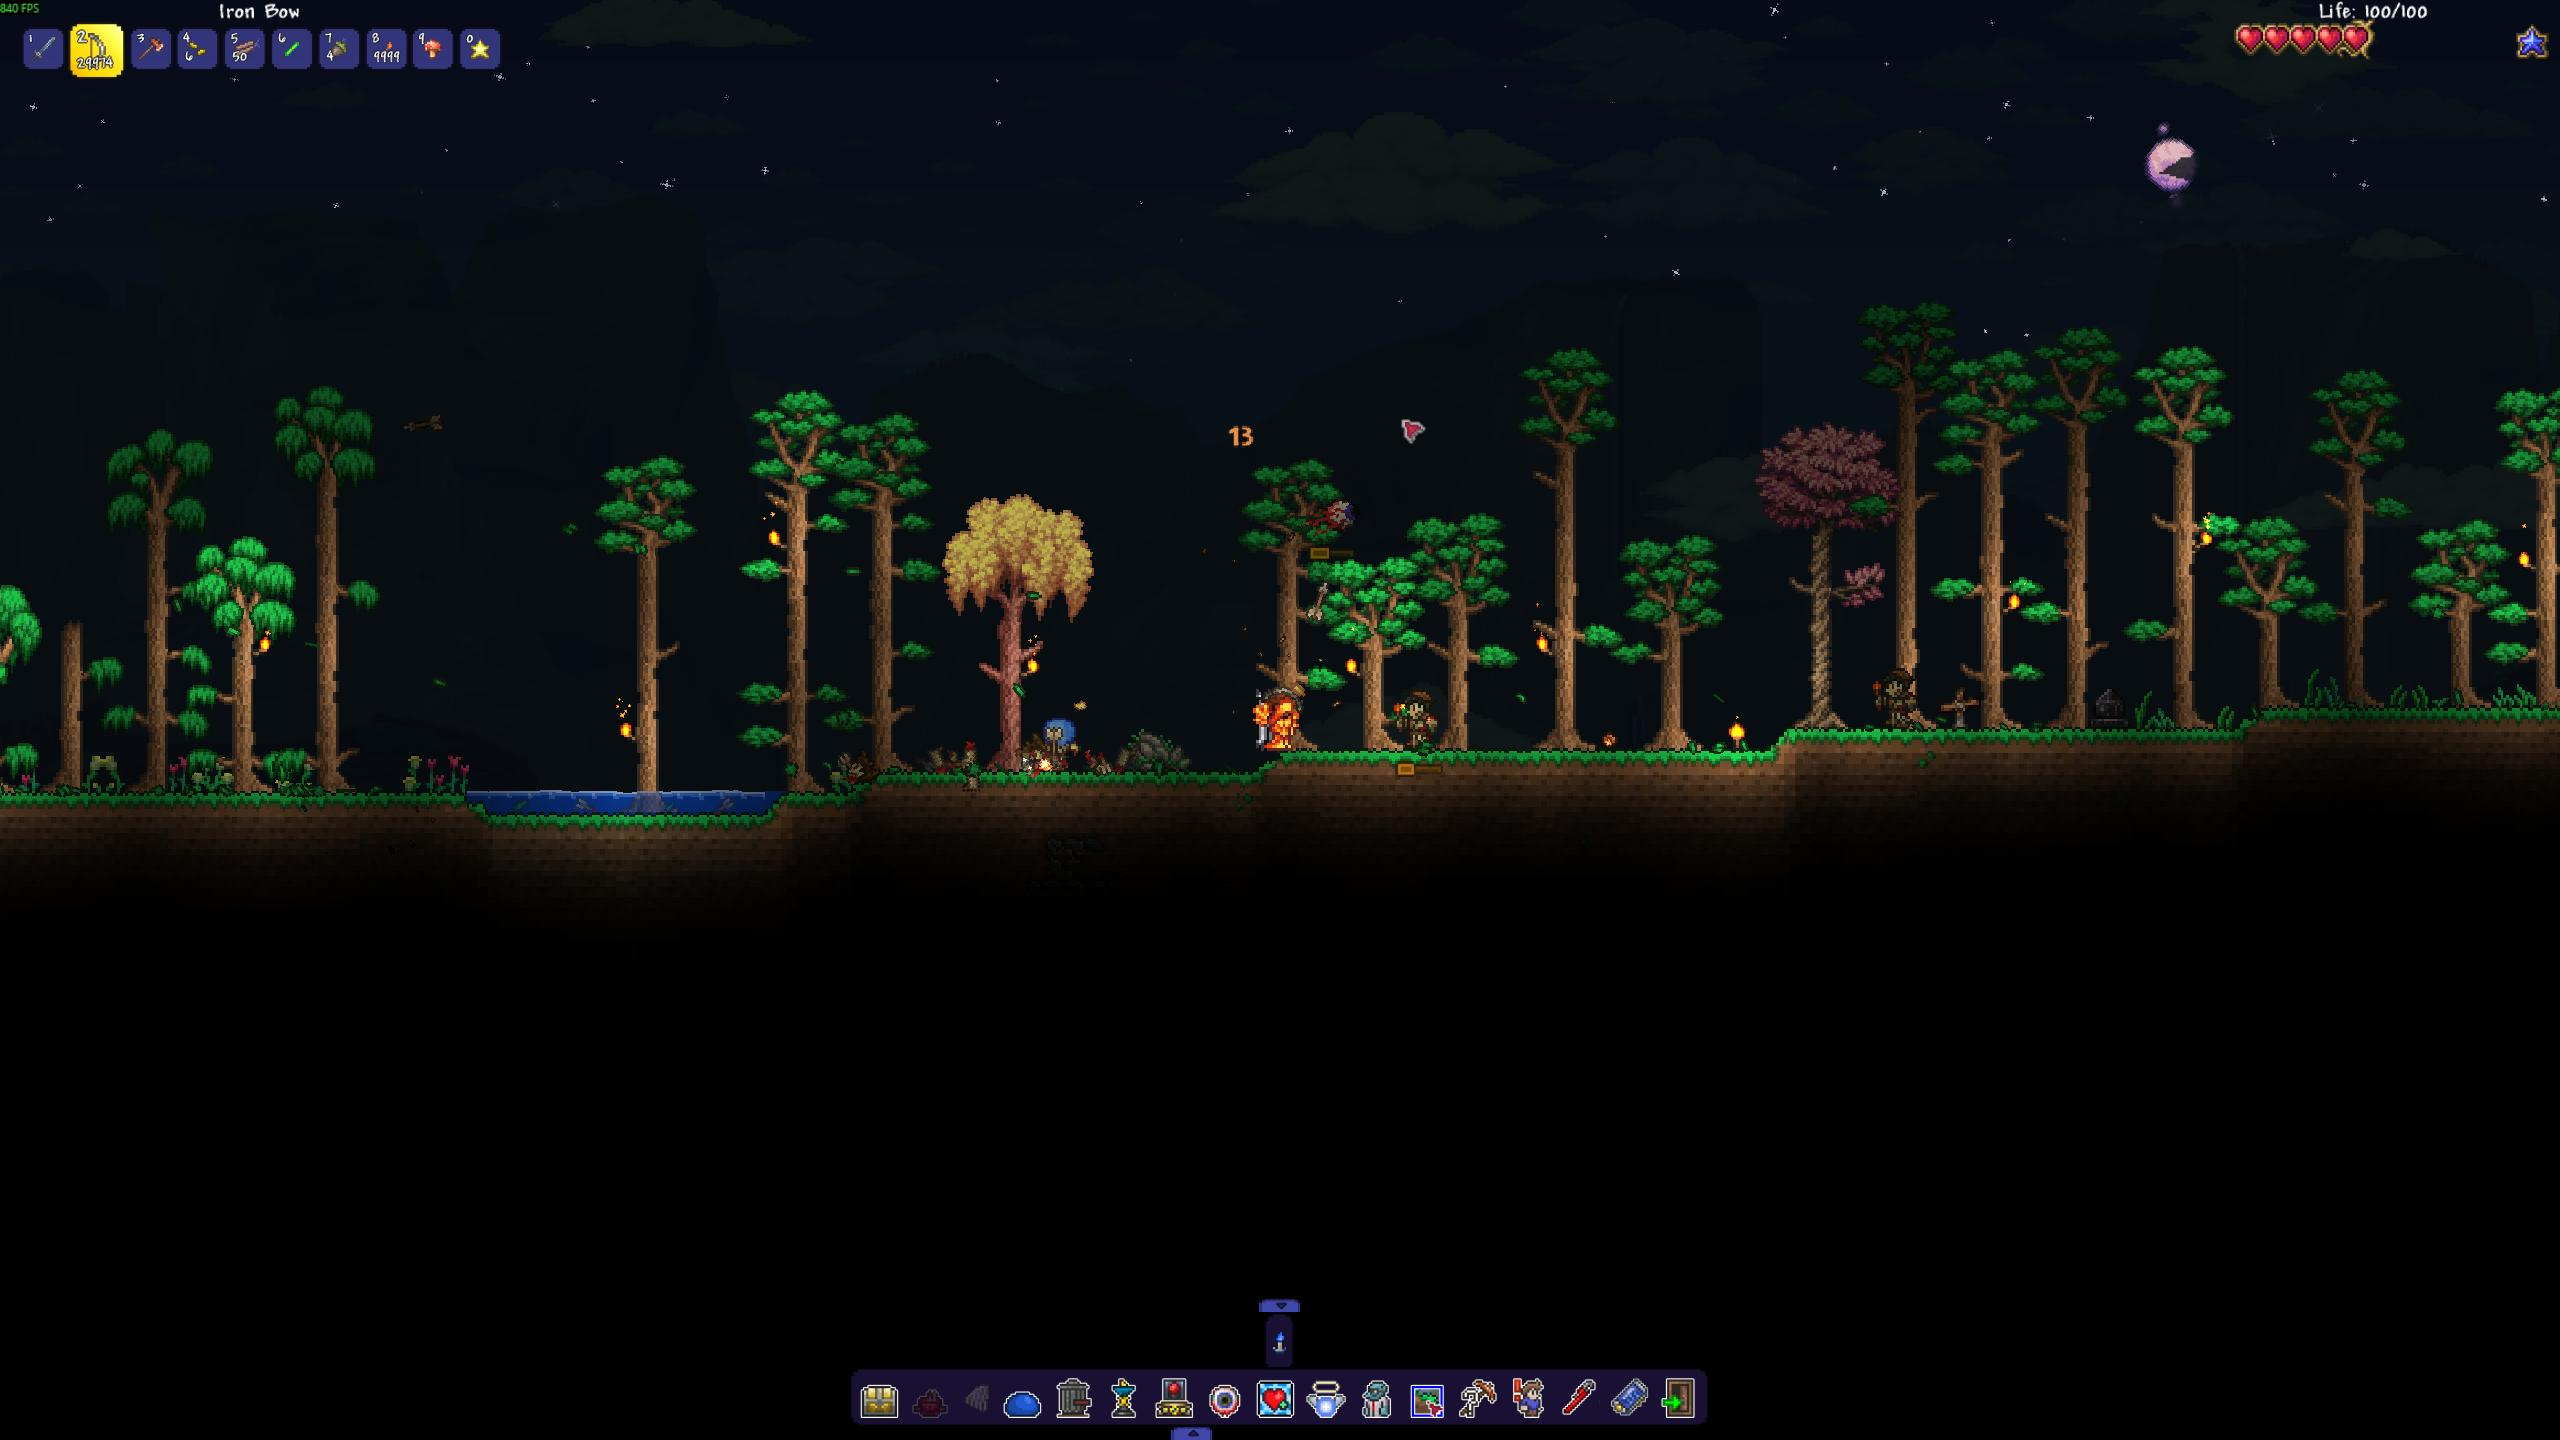Demon Eye: (1305, 499, 1359, 538)
Zombie: (1865, 661, 1925, 733), (1389, 684, 1444, 754)
